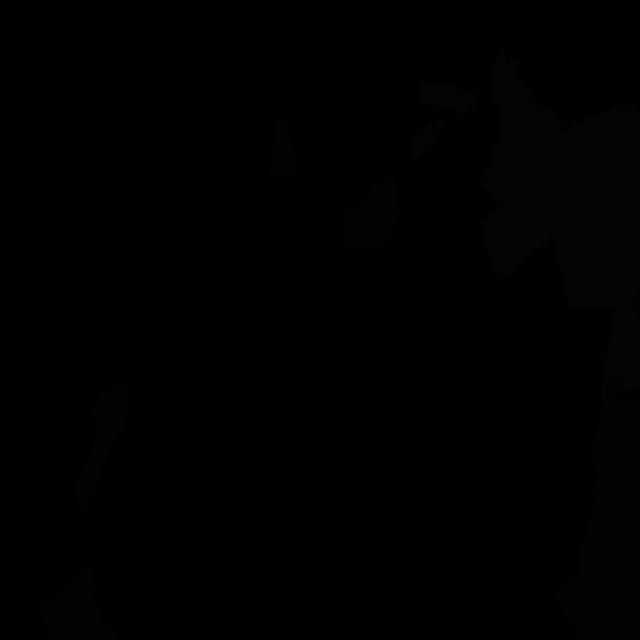cardboard: (556, 377, 640, 640), (75, 385, 130, 511), (38, 565, 118, 640), (344, 174, 399, 252), (269, 119, 296, 179)
soft_plastic: (480, 49, 640, 307), (602, 306, 640, 392), (420, 83, 477, 117), (410, 118, 448, 160)
